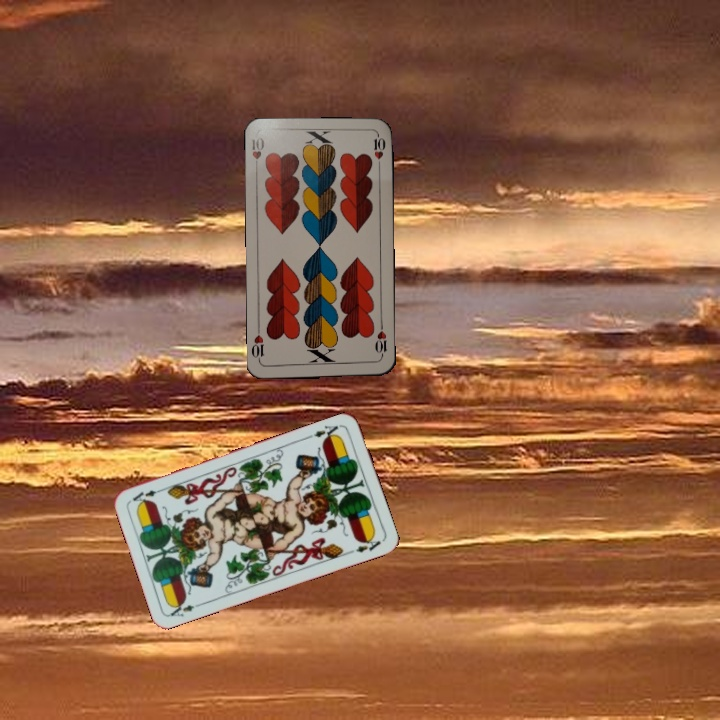EA: (166, 598, 205, 619), (310, 420, 344, 444)
H10: (248, 133, 267, 174), (371, 320, 389, 361)
